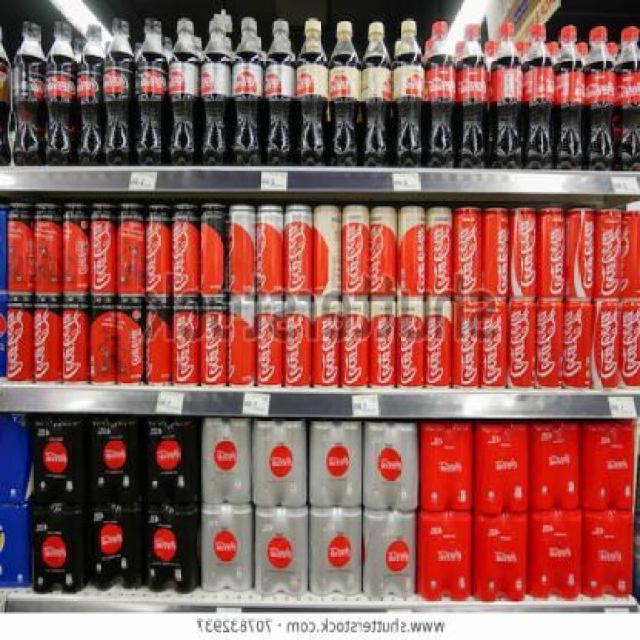Drinks: (84, 503, 144, 591), (362, 419, 420, 510), (85, 414, 143, 504), (142, 417, 201, 505), (143, 504, 200, 594), (474, 421, 529, 514), (250, 419, 308, 507), (392, 19, 426, 168), (31, 413, 86, 505), (489, 22, 523, 169), (294, 19, 328, 166), (420, 420, 474, 512), (231, 16, 264, 166), (362, 510, 418, 598), (12, 21, 46, 165), (473, 514, 529, 601), (135, 18, 168, 165), (418, 512, 473, 600), (308, 420, 363, 508), (328, 20, 361, 166), (527, 510, 581, 599), (30, 504, 84, 593), (308, 507, 362, 596), (580, 421, 634, 510), (456, 23, 489, 168), (254, 506, 308, 594), (425, 20, 457, 168), (168, 17, 200, 165), (264, 18, 296, 165), (200, 18, 232, 165), (103, 19, 135, 166), (554, 24, 586, 170), (360, 21, 392, 167), (199, 506, 253, 592), (530, 420, 581, 511), (44, 21, 76, 165), (523, 25, 555, 169), (581, 510, 633, 598), (200, 418, 252, 504), (586, 24, 614, 170), (75, 24, 103, 165), (615, 26, 639, 172), (198, 294, 228, 389), (226, 203, 257, 294), (452, 205, 482, 298), (88, 201, 117, 297), (116, 295, 146, 387), (116, 203, 146, 295), (284, 295, 313, 390), (227, 294, 256, 389), (198, 203, 228, 294), (313, 296, 342, 390), (564, 208, 594, 298), (256, 295, 284, 391), (509, 206, 537, 300), (7, 202, 35, 296), (396, 296, 424, 390), (88, 296, 117, 386), (593, 208, 621, 300), (537, 207, 565, 299), (369, 298, 397, 390), (369, 206, 397, 297), (257, 203, 285, 294), (536, 300, 564, 391), (479, 299, 507, 390), (452, 297, 480, 388), (61, 202, 88, 296), (34, 202, 61, 296), (341, 296, 368, 390), (60, 296, 88, 386), (313, 206, 341, 296), (172, 202, 199, 295), (564, 299, 591, 392), (172, 293, 198, 389), (481, 207, 508, 299), (425, 207, 452, 298), (285, 203, 312, 294), (508, 299, 535, 390), (425, 297, 452, 388), (398, 206, 425, 296), (342, 206, 369, 296), (146, 205, 172, 297), (34, 294, 60, 386), (592, 299, 618, 390), (146, 296, 172, 386), (8, 296, 34, 386), (618, 298, 638, 391), (620, 211, 638, 298)
